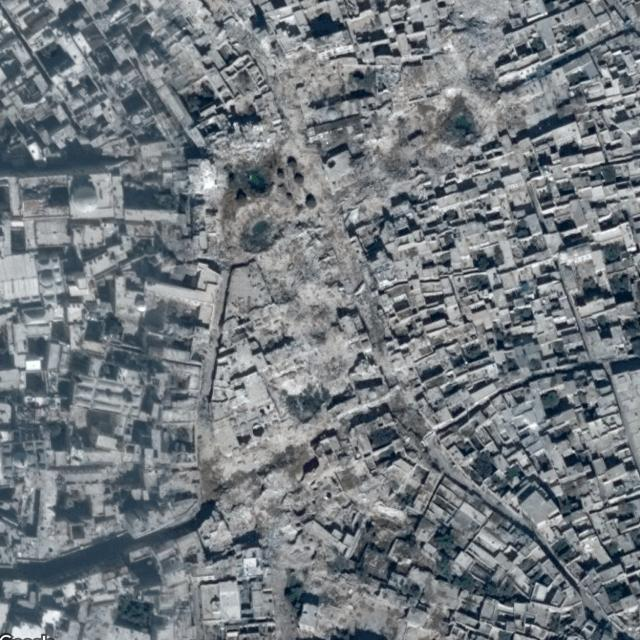damaged_building: (200, 0, 527, 607)
